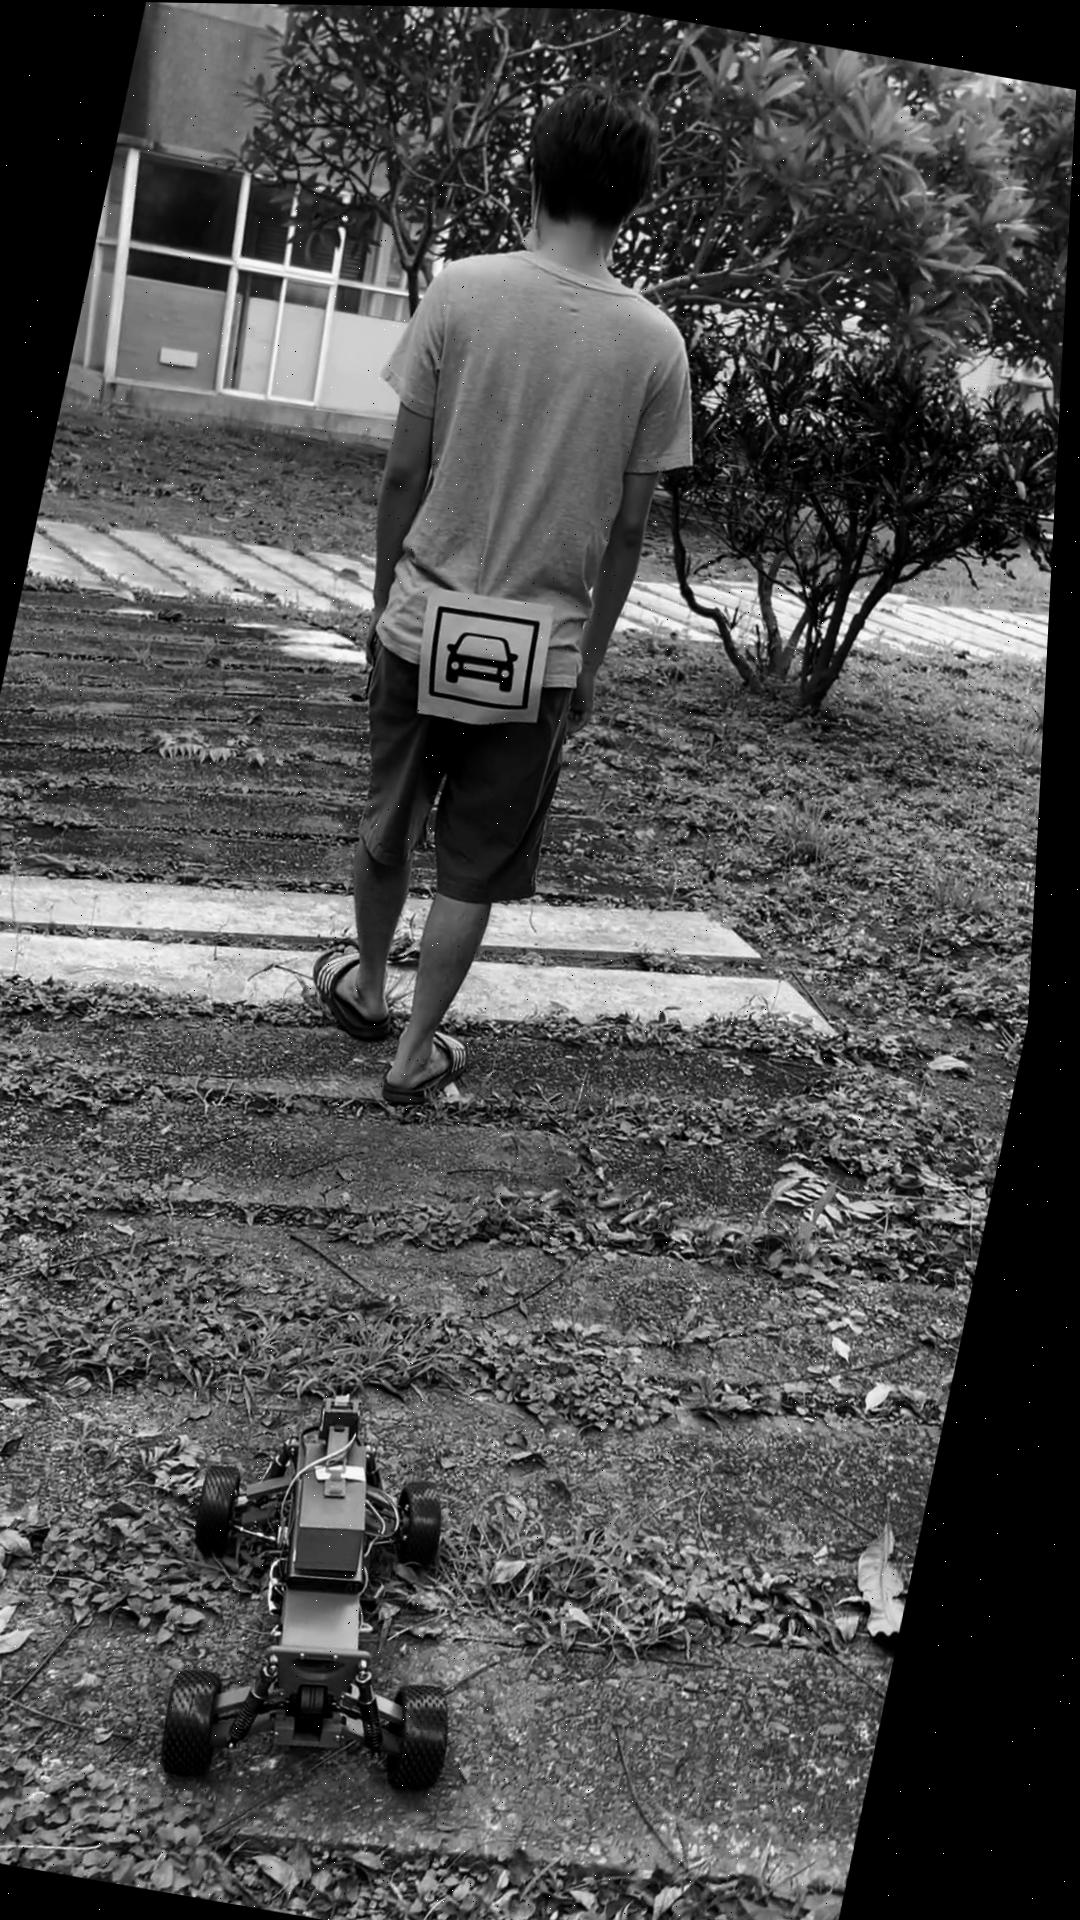car_img: (425, 600, 553, 712)
